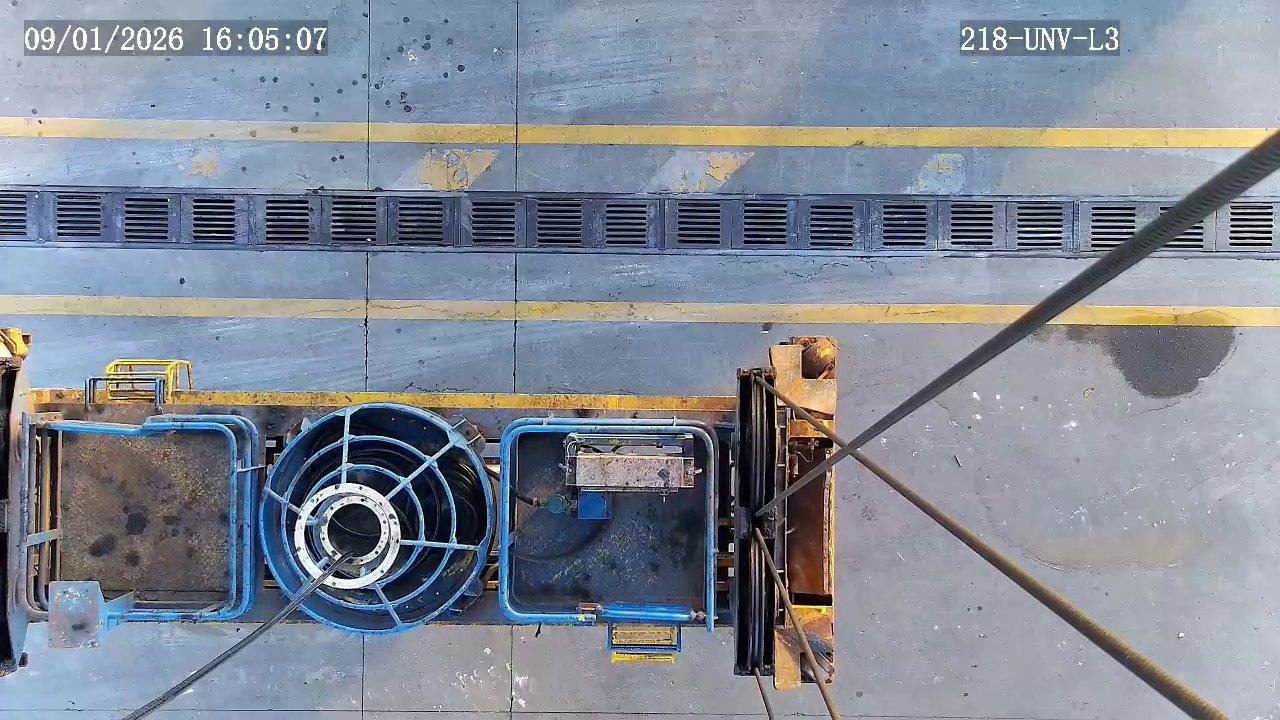right: (294, 483, 402, 590)
